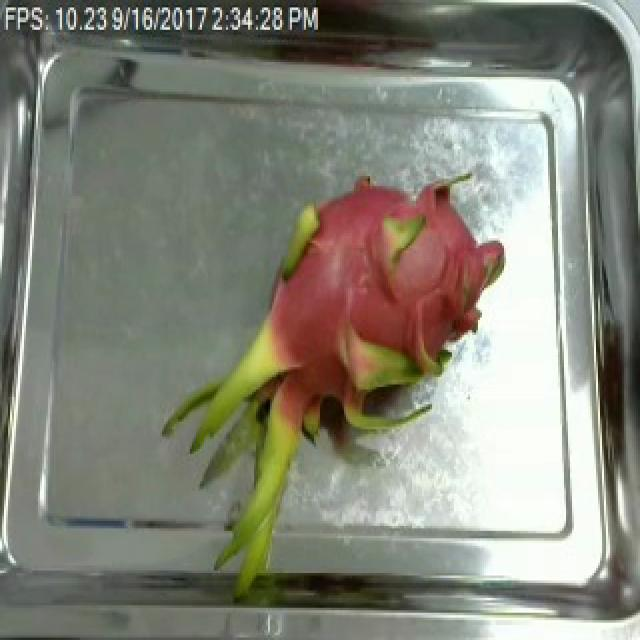fruit: (152, 146, 508, 568)
